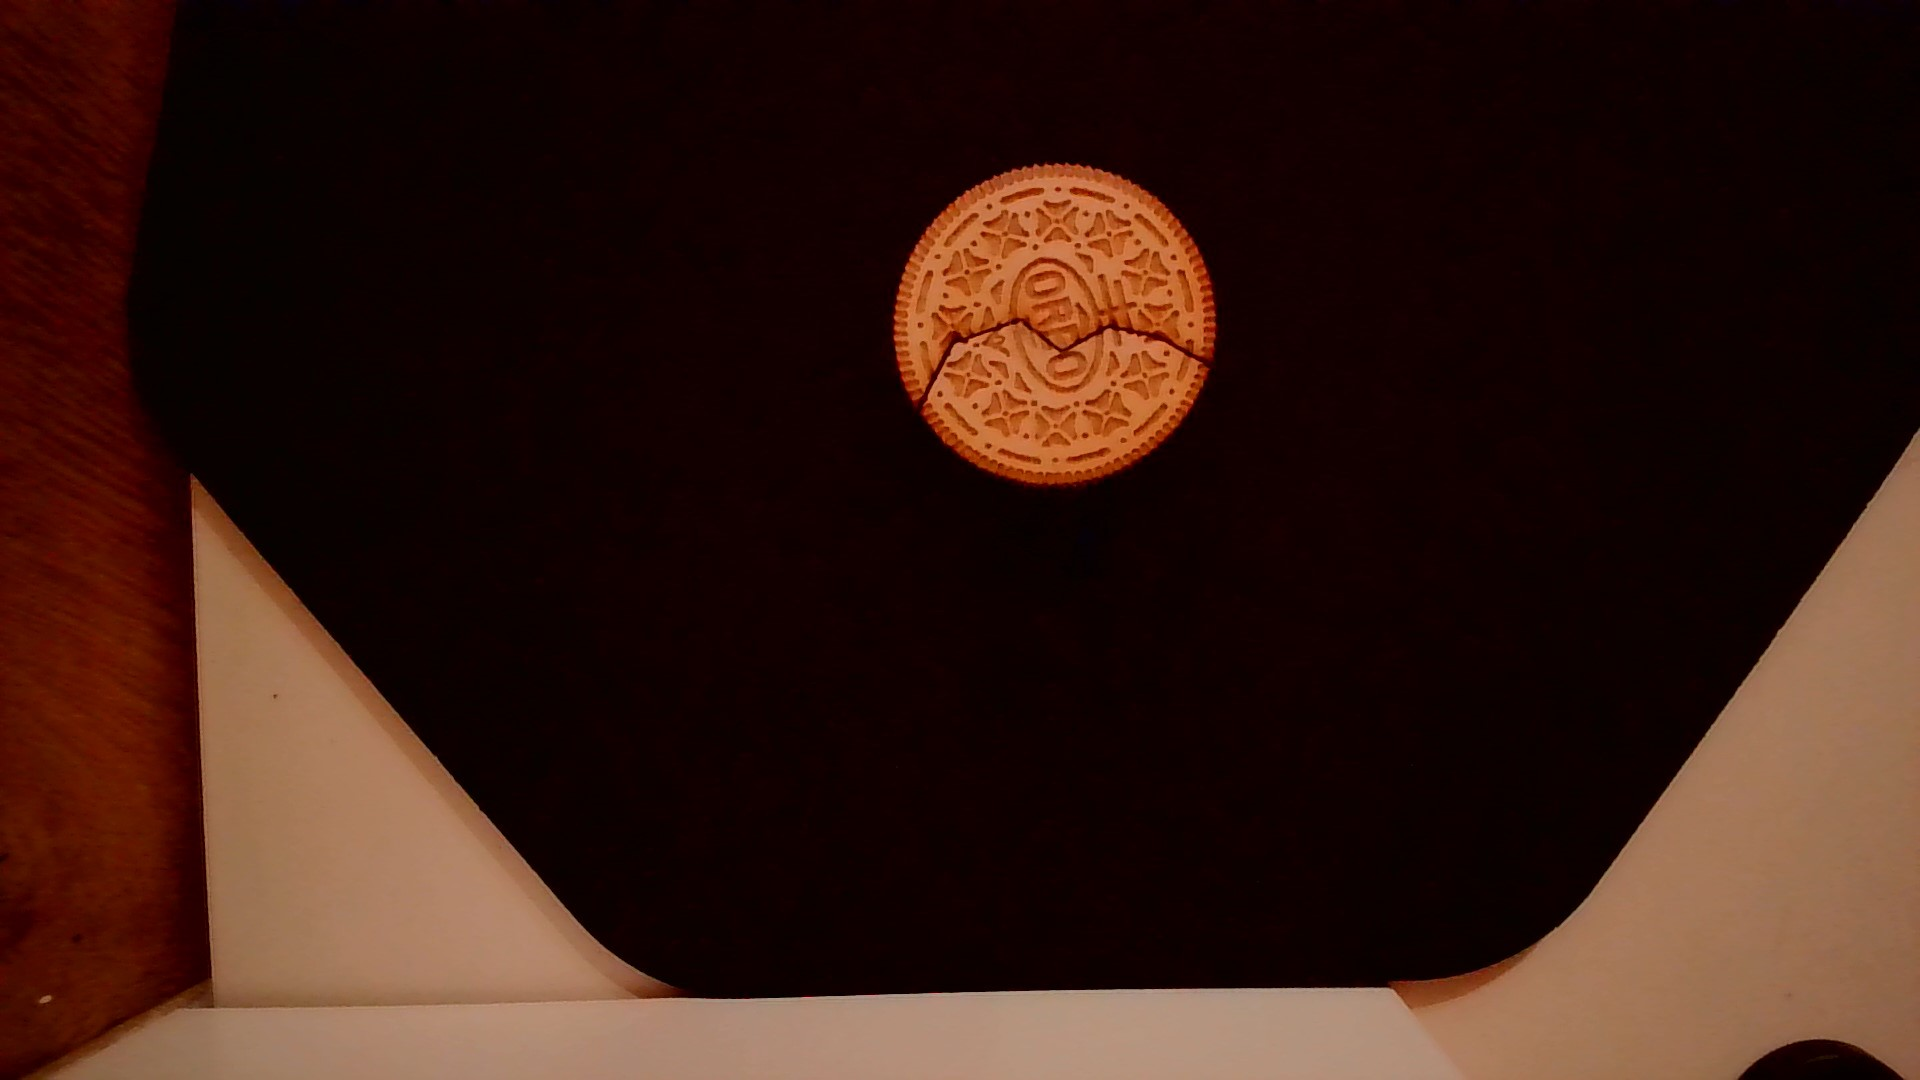Fissure: (903, 307, 1226, 421)
Oréo: (882, 156, 1222, 489)
